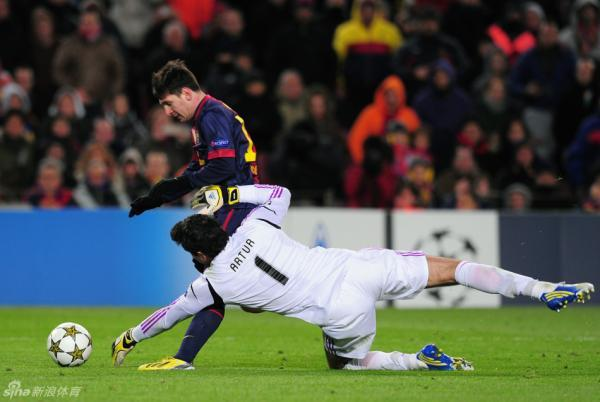bending: (125, 66, 274, 372)
down: (104, 180, 598, 376)
